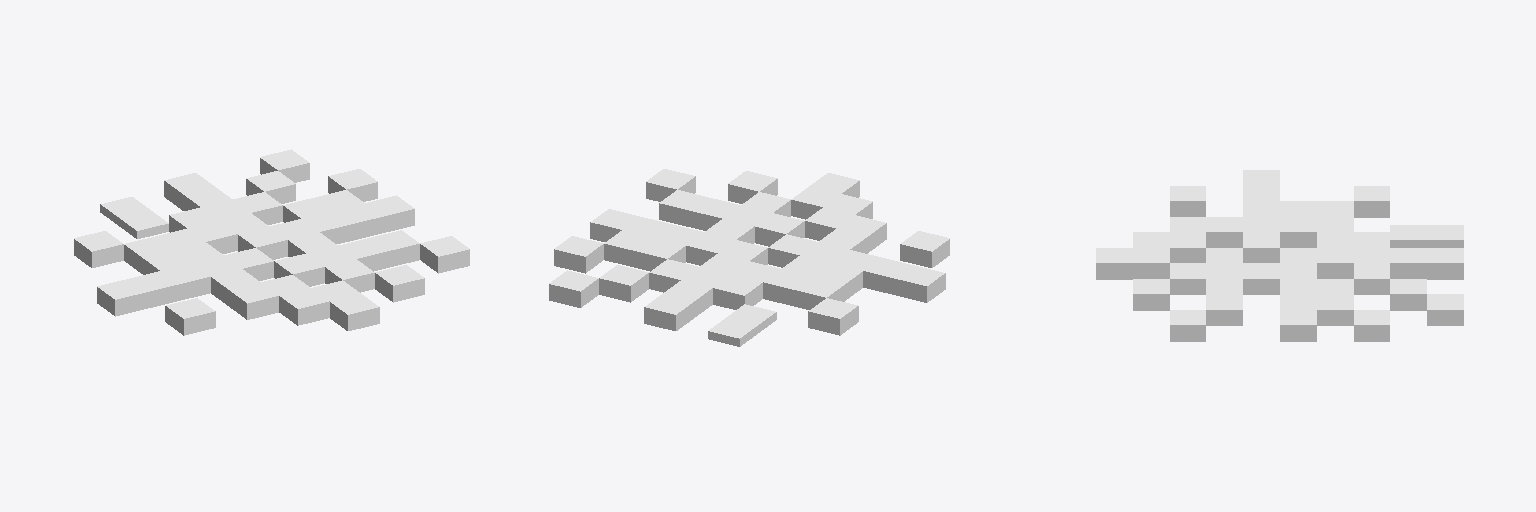
The model's file is 1-0-pop-02.obj.
3 renders of one model, left to right at view 1: azimuth 30°, elevation 25°; view 2: azimuth 150°, elevation 25°; view 3: azimuth 270°, elevation 25°, orthographic.
Parts seen in each view (by area): view 1: pop-02; view 2: pop-02; view 3: pop-02.
Part boxes in pixels (x1,y1,x2,y2): pop-02: (74, 149, 469, 335); pop-02: (549, 169, 949, 346); pop-02: (1096, 170, 1463, 341).
Size of the model in its own units: 4 by 0.2 by 4.